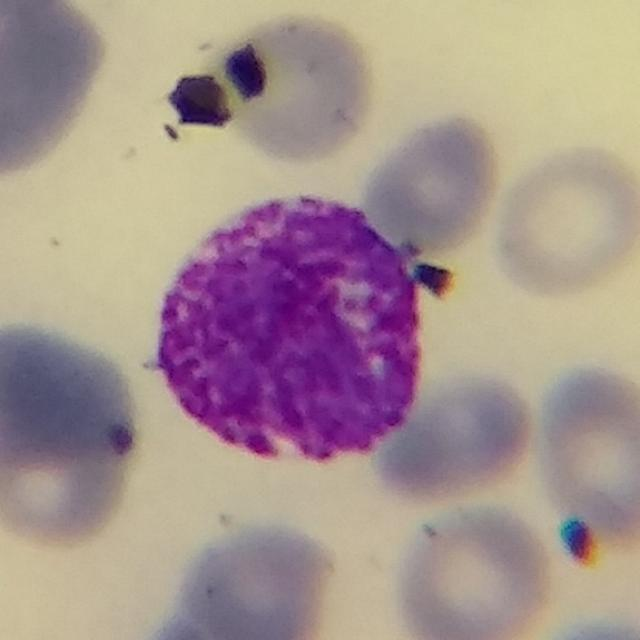baso: (153, 190, 436, 466)
